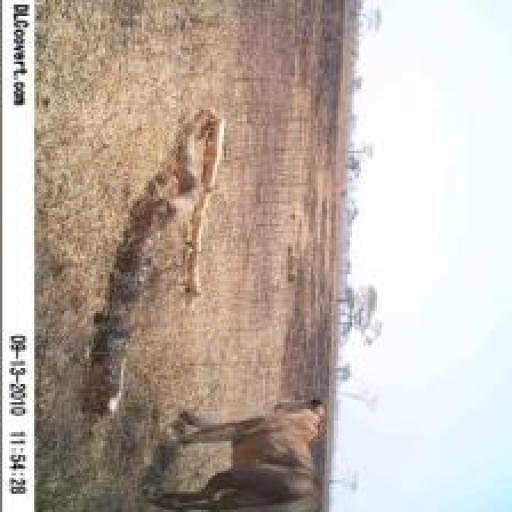lion: (153, 388, 348, 511)
